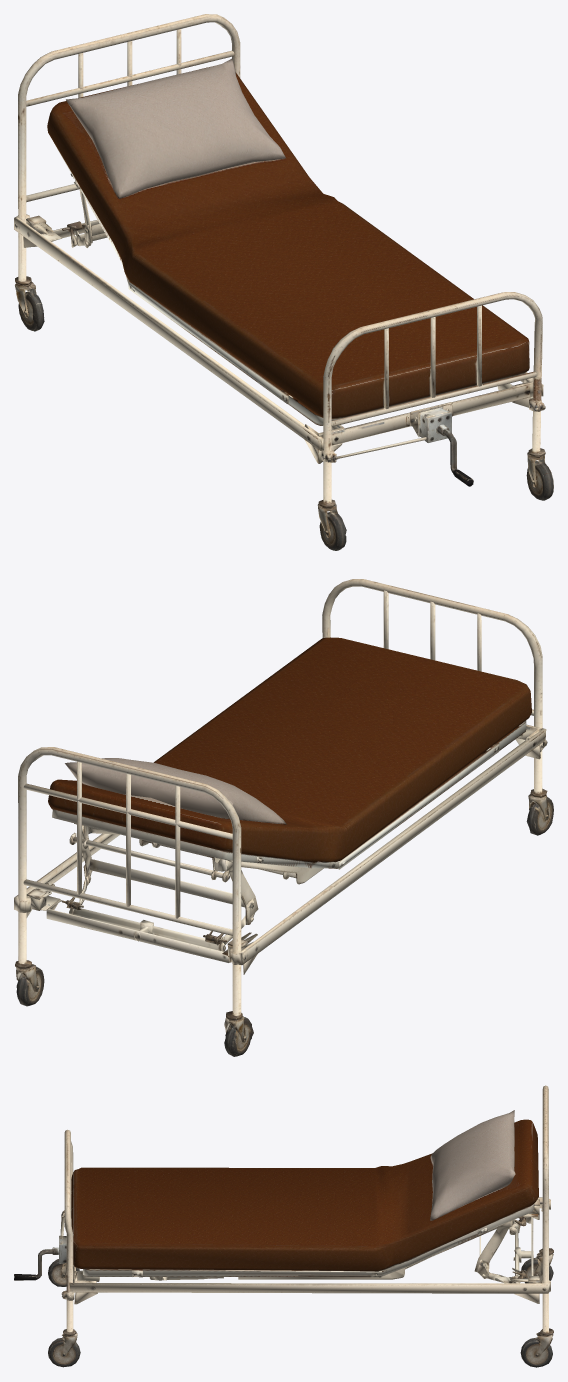
The model's file is epi_bed_2.glb.
The picture shows the model from 3 angles, top to bottom: view 1: azimuth 30°, elevation 25°; view 2: azimuth 150°, elevation 25°; view 3: azimuth 270°, elevation 25°; orthographic projection. The views are drawn at different scales.
Parts seen in each view (by area): view 1: Mesh_0; view 2: Mesh_0; view 3: Mesh_0.
Boxes of the visible parts, <box> form: Mesh_0: <box>14,14,553,550</box>; Mesh_0: <box>14,579,553,1056</box>; Mesh_0: <box>14,1085,553,1367</box>.
Size of the model in its own units: 0.7877 by 0.8816 by 2.05.
1 material, 1 textured.
